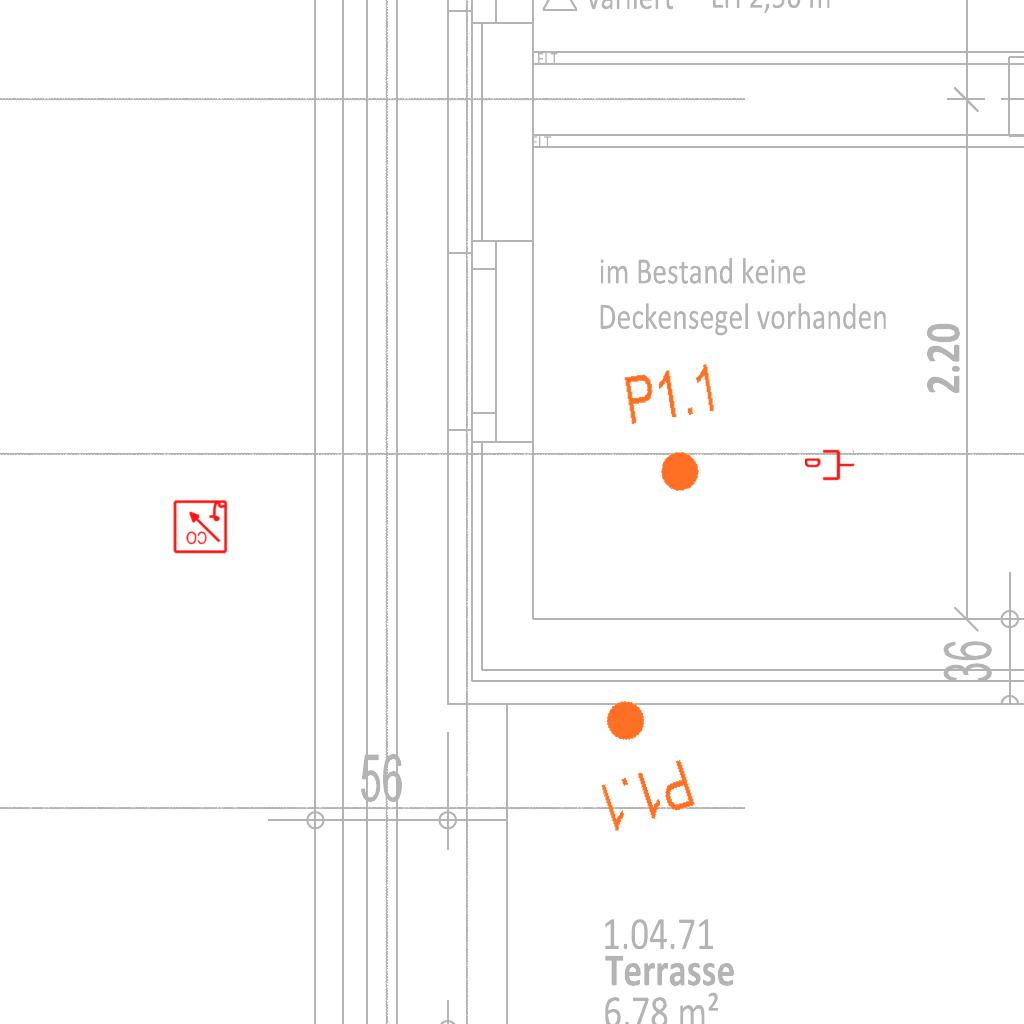Datenanschluss_einfach: (805, 448, 855, 482)
Downlight_LED_Einbauleuchten_Flur: (571, 685, 700, 837), (620, 359, 733, 501)
ROA_Rauchmelder_optisch_mit_Signalgeber_(Sockelsirene): (172, 498, 228, 554)
